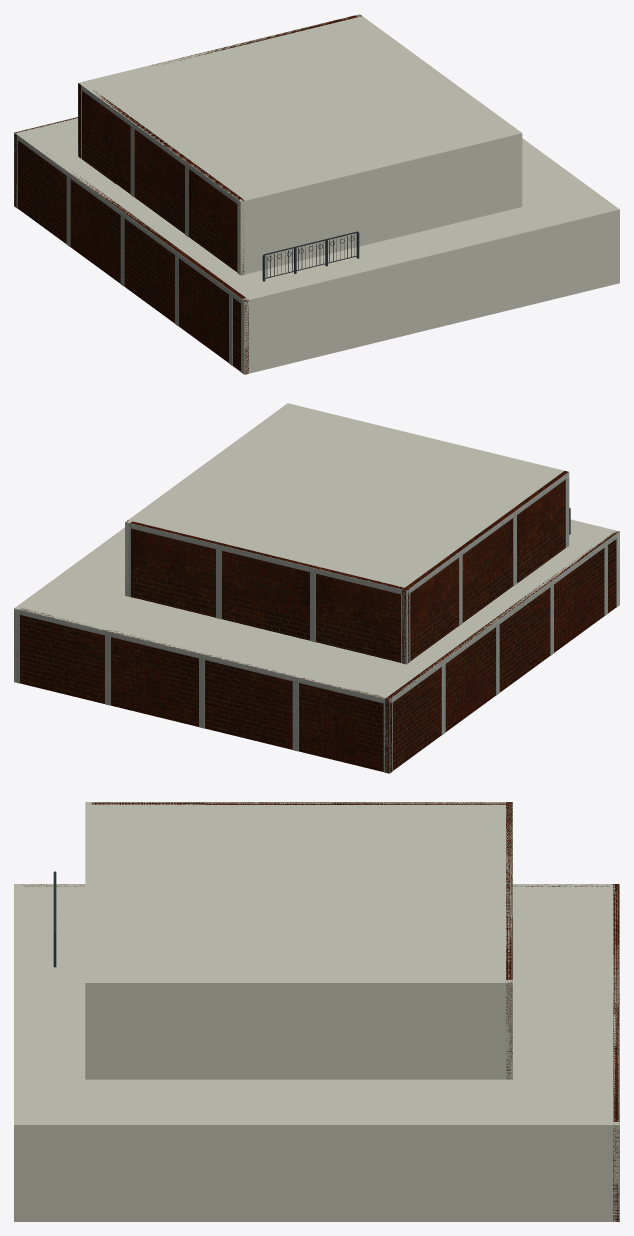
The model's file is building.glb.
The picture shows the model from 3 angles, top to bottom: view 1: azimuth 30°, elevation 25°; view 2: azimuth 150°, elevation 25°; view 3: azimuth 270°, elevation 25°; orthographic projection. The views are drawn at different scales.
Parts seen in each view (by area): view 1: roof/upper:0/roof_slab#0001, lower:0/edge0/z0/lower:0/edge0/z0/wall_0_0, upper:0/edge0/z3/upper:0/edge0/z3/wall_0_0, roof/lower:0/roof_slab#0001, lower:0/edge3/z0/lower:0/edge3/z0/wall_0_0, upper:0/edge3/z3/upper:0/edge3/z3/wall_0_0, lower:0/edge3/z0/lower:0/edge3/z0/beam_0_0, upper:0/edge1/z3/upper:0/edge1/z3/wall_0_0, upper:0/edge3/z3/upper:0/edge3/z3/beam_0_0, lower:0/edge1/z0/lower:0/edge1/z0/wall_0_0, upper:0/edge2/z3/upper:0/edge2/z3/wall_0_0; view 2: roof/upper:0/roof_slab#0001, lower:0/edge2/z0/lower:0/edge2/z0/wall_0_0, roof/lower:0/roof_slab#0001, upper:0/edge2/z3/upper:0/edge2/z3/wall_0_0, lower:0/edge3/z0/lower:0/edge3/z0/wall_0_0, upper:0/edge3/z3/upper:0/edge3/z3/wall_0_0, lower:0/edge2/z0/lower:0/edge2/z0/beam_0_0, upper:0/edge2/z3/upper:0/edge2/z3/beam_0_0, lower:0/edge3/z0/lower:0/edge3/z0/beam_0_0, upper:0/edge1/z3/upper:0/edge1/z3/wall_0_0, upper:0/edge3/z3/upper:0/edge3/z3/beam_0_0, upper:0/edge0/z3/upper:0/edge0/z3/wall_0_0 (+1 smaller); view 3: roof/upper:0/roof_slab#0001, roof/lower:0/roof_slab#0001, lower:0/edge1/z0/lower:0/edge1/z0/wall_0_0, upper:0/edge1/z3/upper:0/edge1/z3/wall_0_0, lower:0/edge0/z0/lower:0/edge0/z0/wall_0_0, upper:0/edge0/z3/upper:0/edge0/z3/wall_0_0, lower:0/edge2/z0/lower:0/edge2/z0/wall_0_0, upper:0/edge2/z3/upper:0/edge2/z3/wall_0_0, upper:0/edge3/z3/upper:0/edge3/z3/wall_0_0.
Part boxes in pixels (<box>): roof/upper:0/roof_slab#0001: <box>78,14,520,204</box>; lower:0/edge0/z0/lower:0/edge0/z0/wall_0_0: <box>241,209,619,374</box>; upper:0/edge0/z3/upper:0/edge0/z3/wall_0_0: <box>238,132,522,275</box>; roof/lower:0/roof_slab#0001: <box>14,117,618,303</box>; lower:0/edge3/z0/lower:0/edge3/z0/wall_0_0: <box>17,140,248,374</box>; upper:0/edge3/z3/upper:0/edge3/z3/wall_0_0: <box>82,90,244,274</box>; lower:0/edge3/z0/lower:0/edge3/z0/beam_0_0: <box>14,133,243,303</box>; upper:0/edge1/z3/upper:0/edge1/z3/wall_0_0: <box>355,14,522,207</box>; upper:0/edge3/z3/upper:0/edge3/z3/beam_0_0: <box>81,85,240,205</box>; lower:0/edge1/z0/lower:0/edge1/z0/wall_0_0: <box>522,138,619,284</box>; upper:0/edge2/z3/upper:0/edge2/z3/wall_0_0: <box>78,15,361,158</box>; roof/upper:0/roof_slab#0001: <box>127,404,568,592</box>; lower:0/edge2/z0/lower:0/edge2/z0/wall_0_0: <box>20,608,392,772</box>; roof/lower:0/roof_slab#0001: <box>14,520,619,703</box>; upper:0/edge2/z3/upper:0/edge2/z3/wall_0_0: <box>127,520,409,662</box>; lower:0/edge3/z0/lower:0/edge3/z0/wall_0_0: <box>385,531,619,773</box>; upper:0/edge3/z3/upper:0/edge3/z3/wall_0_0: <box>402,471,568,663</box>; lower:0/edge2/z0/lower:0/edge2/z0/beam_0_0: <box>14,609,389,703</box>; upper:0/edge2/z3/upper:0/edge2/z3/beam_0_0: <box>125,522,406,595</box>; lower:0/edge3/z0/lower:0/edge3/z0/beam_0_0: <box>389,533,619,704</box>; upper:0/edge1/z3/upper:0/edge1/z3/wall_0_0: <box>125,405,289,596</box>; upper:0/edge3/z3/upper:0/edge3/z3/beam_0_0: <box>406,472,568,595</box>; upper:0/edge0/z3/upper:0/edge0/z3/wall_0_0: <box>285,403,569,477</box>; roof/upper:0/roof_slab#0001: <box>85,802,512,987</box>; roof/lower:0/roof_slab#0001: <box>14,884,619,1129</box>; lower:0/edge1/z0/lower:0/edge1/z0/wall_0_0: <box>14,1122,619,1221</box>; upper:0/edge1/z3/upper:0/edge1/z3/wall_0_0: <box>85,980,512,1079</box>; lower:0/edge0/z0/lower:0/edge0/z0/wall_0_0: <box>14,884,20,1221</box>; upper:0/edge0/z3/upper:0/edge0/z3/wall_0_0: <box>85,802,92,1079</box>; lower:0/edge2/z0/lower:0/edge2/z0/wall_0_0: <box>613,884,619,1221</box>; upper:0/edge2/z3/upper:0/edge2/z3/wall_0_0: <box>506,802,512,1078</box>; upper:0/edge3/z3/upper:0/edge3/z3/wall_0_0: <box>91,802,510,804</box>.
Bounding box in the file's own units: 16 × 6 × 17.
Materials: 4 (1 with a texture image).
